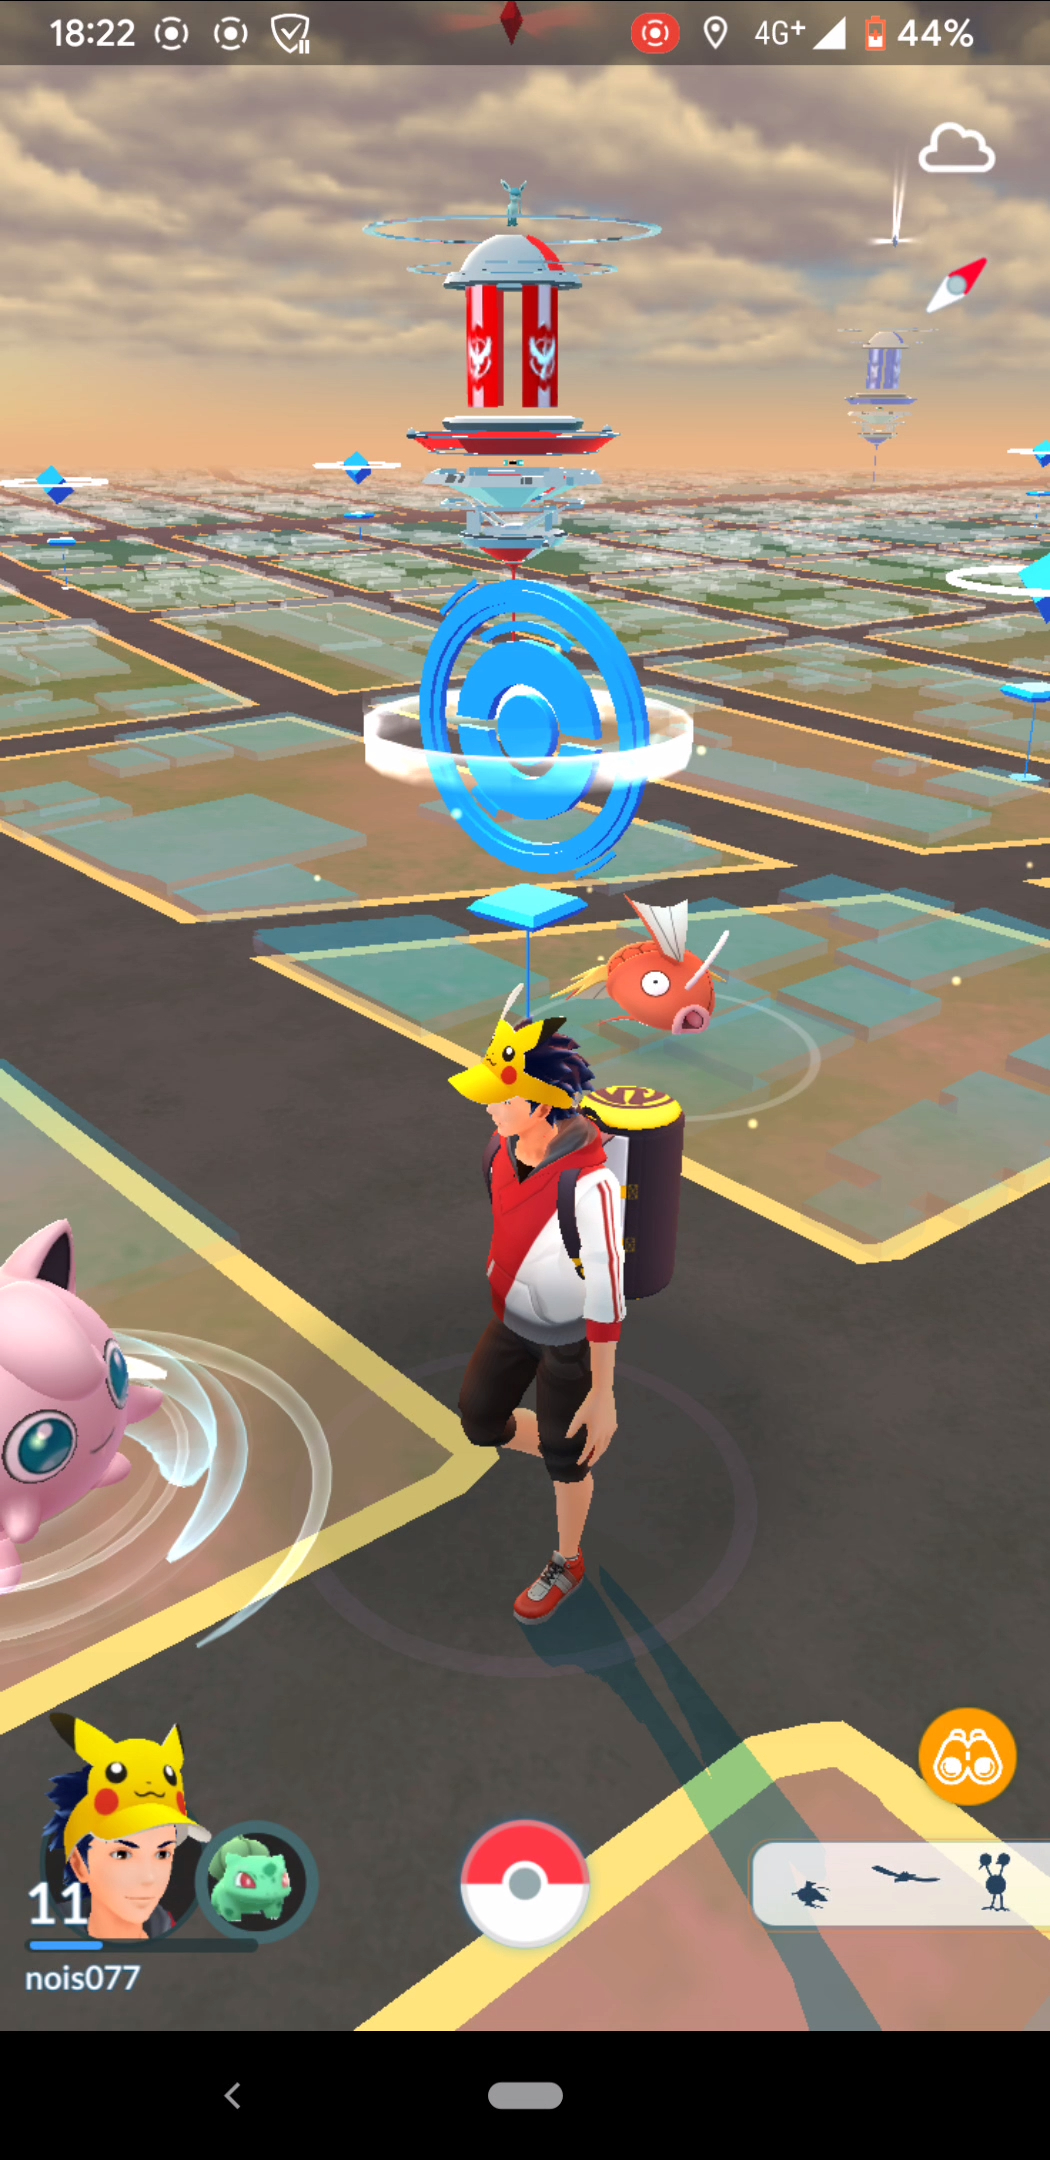pokestop: (411, 573, 655, 882)
